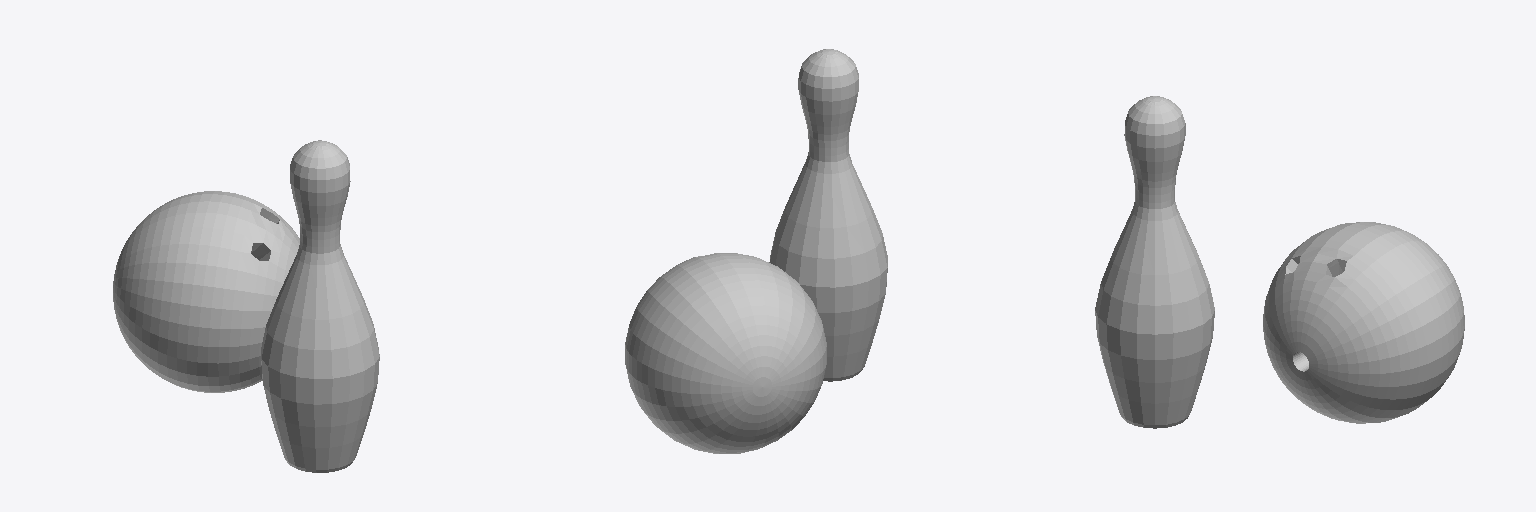
3 renders of one model, left to right at view 1: azimuth 30°, elevation 25°; view 2: azimuth 150°, elevation 25°; view 3: azimuth 270°, elevation 25°, orthographic.
Parts seen in each view (by area): view 1: ball, polySurface1; view 2: ball, polySurface1; view 3: ball, polySurface1.
Boxes of the visible parts, x1,y1,x2,y2 form: ball: [113, 191, 299, 392]; polySurface1: [261, 140, 379, 472]; ball: [625, 253, 826, 453]; polySurface1: [769, 49, 887, 381]; ball: [1263, 222, 1464, 423]; polySurface1: [1095, 96, 1214, 428].
Bounding box in the file's own units: 21.96 × 38 × 40.23.